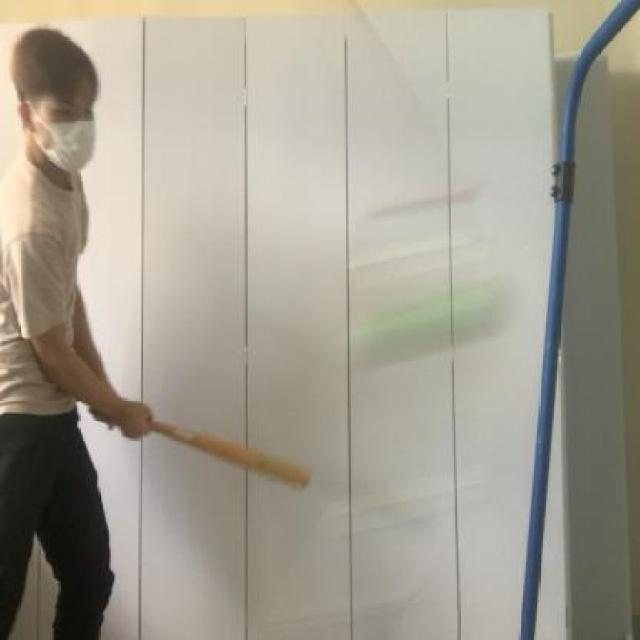baseball: (342, 274, 510, 371)
